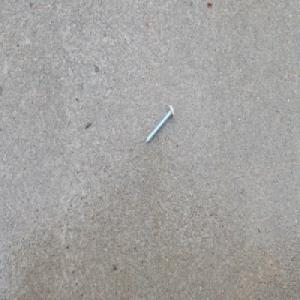Nail: (145, 104, 175, 145)
